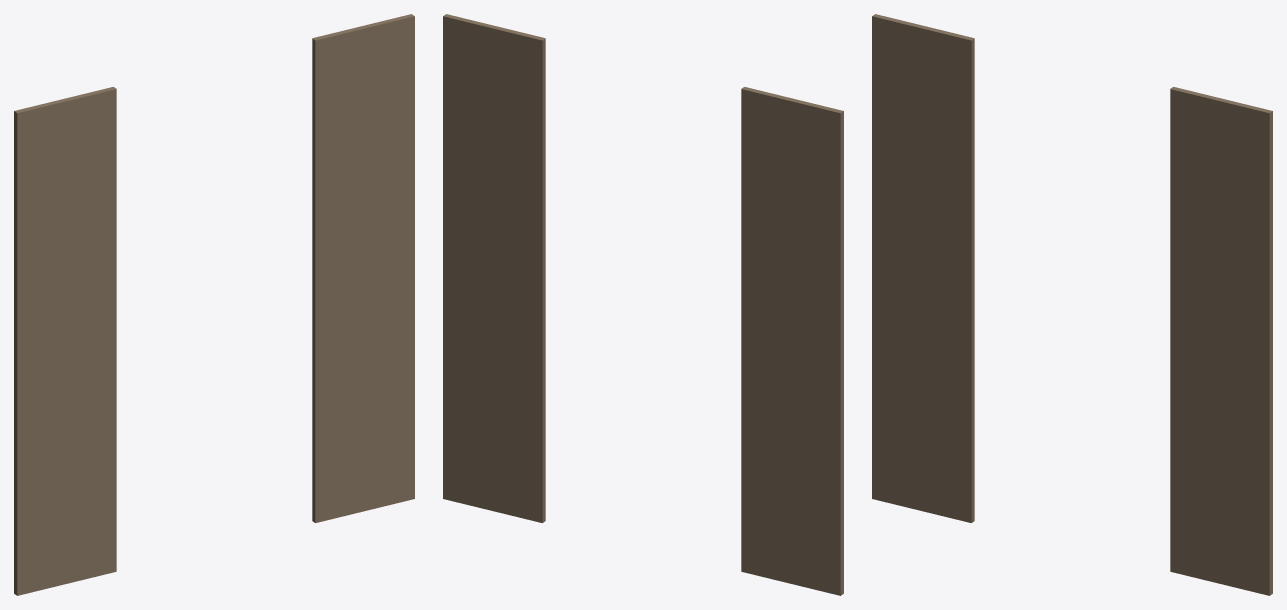
File: landing_door_TM028.glb
3 renders of one model, left to right at view 1: azimuth 30°, elevation 25°; view 2: azimuth 150°, elevation 25°; view 3: azimuth 330°, elevation 25°, orthographic.
Parts seen in each view (by area): view 1: Landing_Door_L, Landing_Door_R; view 2: Landing_Door_L, Landing_Door_R; view 3: Landing_Door_L, Landing_Door_R.
Boxes of the visible parts, x1,y1,x2,y2 form: Landing_Door_L: [14, 87, 116, 595]; Landing_Door_R: [312, 14, 414, 522]; Landing_Door_L: [741, 87, 843, 595]; Landing_Door_R: [443, 14, 545, 522]; Landing_Door_L: [872, 14, 974, 522]; Landing_Door_R: [1170, 87, 1272, 595].
Size of the model in its own units: 1.81 by 2.1 by 0.025.
